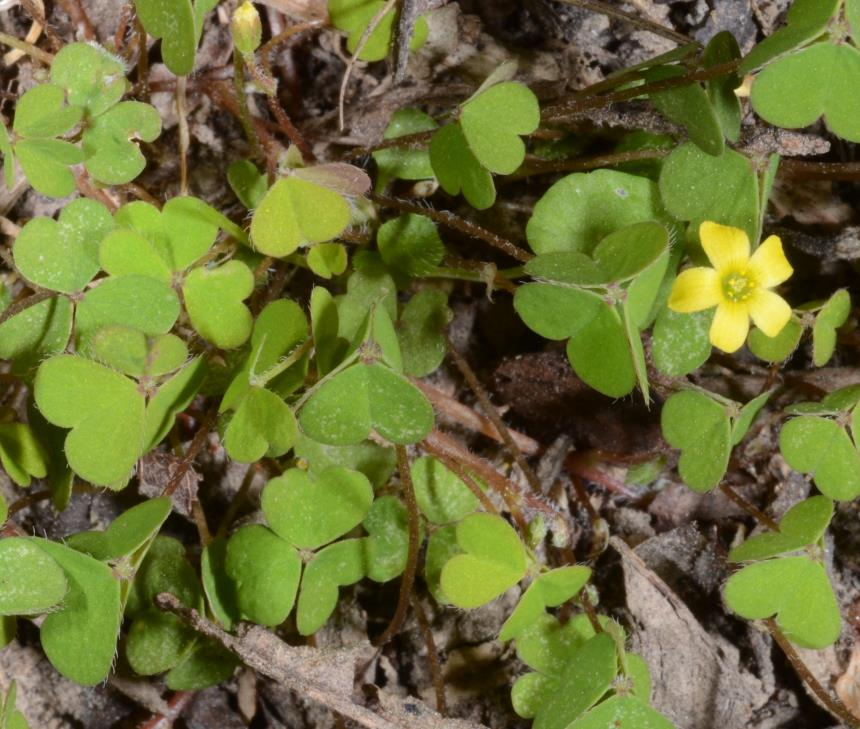oxalis: (12, 35, 834, 684)
